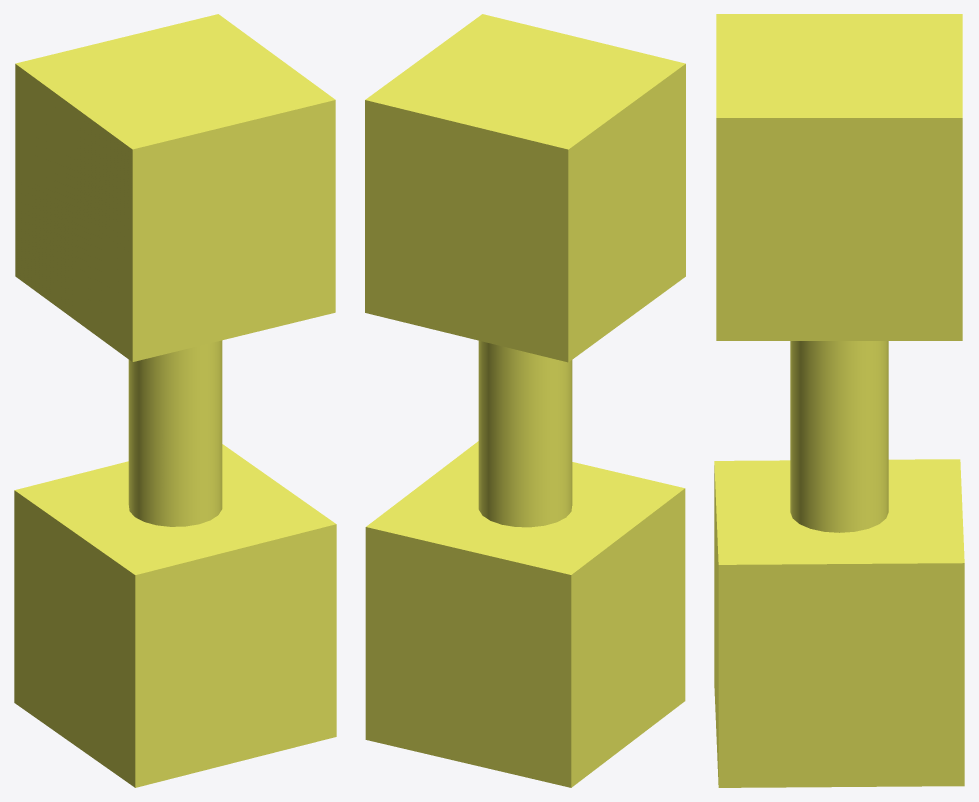
Rendered from robot_dumbbell_yellow.dae.
The picture shows the model from 3 angles, left to right: view 1: azimuth 30°, elevation 25°; view 2: azimuth 150°, elevation 25°; view 3: azimuth 270°, elevation 25°; orthographic projection. The views are drawn at different scales.
Visible parts, largest first — view 1: dumbell; view 2: dumbell; view 3: dumbell.
Part boxes in pixels (bbox=[...]): dumbell: bbox=[14, 14, 336, 787]; dumbell: bbox=[365, 14, 685, 787]; dumbell: bbox=[714, 14, 964, 787].
Size of the model in its own units: 5.09 by 15 by 5.09.
